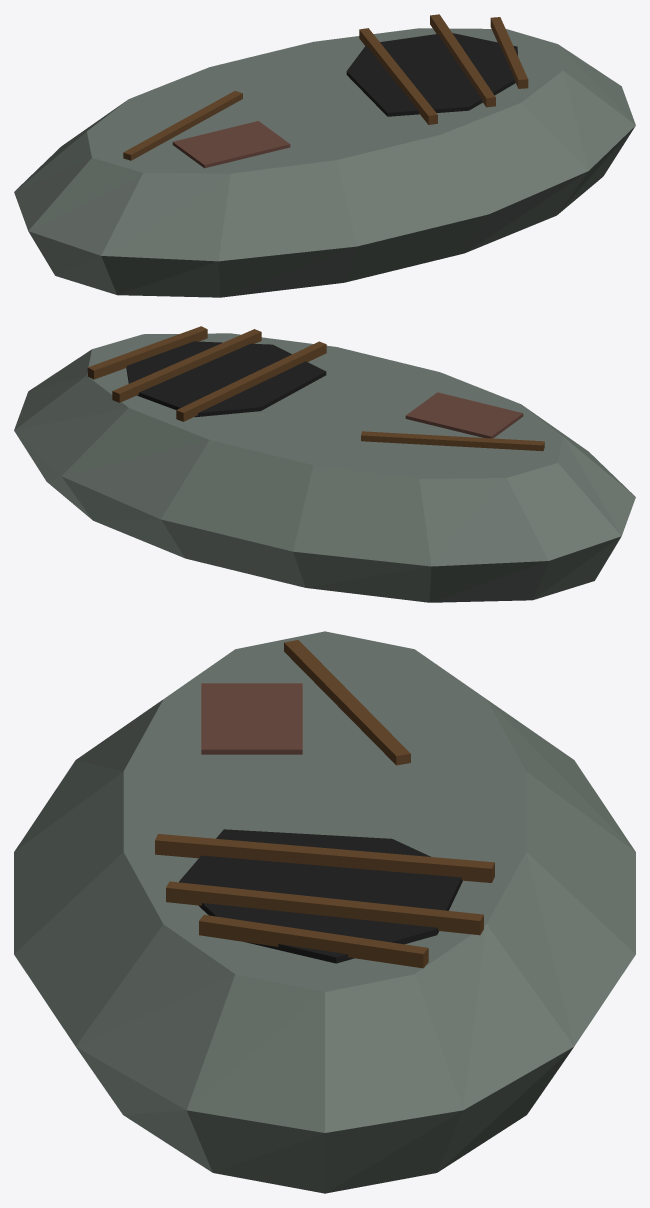
Rendered from warwalker_shell_b6.obj.
3 views of the same model, one above another, from view 1: azimuth 30°, elevation 25°; view 2: azimuth 150°, elevation 25°; view 3: azimuth 270°, elevation 25° (orthographic). The views are drawn at different scales.
Parts seen in each view (by area): view 1: warwalker_shell_b6_1, warwalker_shell_b6_0, warwalker_shell_b6_2, warwalker_shell_b6_7, warwalker_shell_b6_3, warwalker_shell_b6_6, warwalker_shell_b6_4, warwalker_shell_b6_5; view 2: warwalker_shell_b6_1, warwalker_shell_b6_0, warwalker_shell_b6_2, warwalker_shell_b6_7, warwalker_shell_b6_3, warwalker_shell_b6_4, warwalker_shell_b6_6, warwalker_shell_b6_5; view 3: warwalker_shell_b6_1, warwalker_shell_b6_0, warwalker_shell_b6_2, warwalker_shell_b6_7, warwalker_shell_b6_3, warwalker_shell_b6_4, warwalker_shell_b6_5, warwalker_shell_b6_6.
Part boxes in pixels (x1,y1,x2,y2): warwalker_shell_b6_1: (14,28,635,261); warwalker_shell_b6_0: (28,126,635,297); warwalker_shell_b6_2: (346,33,517,116); warwalker_shell_b6_7: (172,121,290,168); warwalker_shell_b6_3: (359,28,437,124); warwalker_shell_b6_6: (123,91,242,160); warwalker_shell_b6_4: (430,14,495,107); warwalker_shell_b6_5: (490,17,528,88); warwalker_shell_b6_1: (14,333,635,566); warwalker_shell_b6_0: (14,431,621,602); warwalker_shell_b6_2: (126,341,326,417); warwalker_shell_b6_7: (405,392,523,438); warwalker_shell_b6_3: (176,341,326,421); warwalker_shell_b6_4: (112,329,261,402); warwalker_shell_b6_6: (361,431,544,451); warwalker_shell_b6_5: (87,326,207,379); warwalker_shell_b6_1: (14,631,635,1132); warwalker_shell_b6_0: (76,1047,573,1193); warwalker_shell_b6_2: (179,829,462,963); warwalker_shell_b6_7: (201,683,302,754); warwalker_shell_b6_3: (155,834,494,882); warwalker_shell_b6_4: (166,881,483,935); warwalker_shell_b6_5: (199,914,428,968); warwalker_shell_b6_6: (284,640,410,765).
Size of the model in its own units: 4.84 by 0.935 by 2.77.
